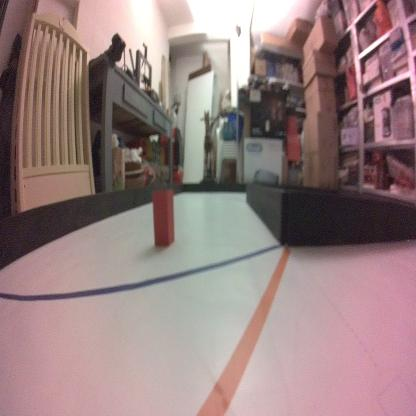red: (152, 188, 175, 247)
